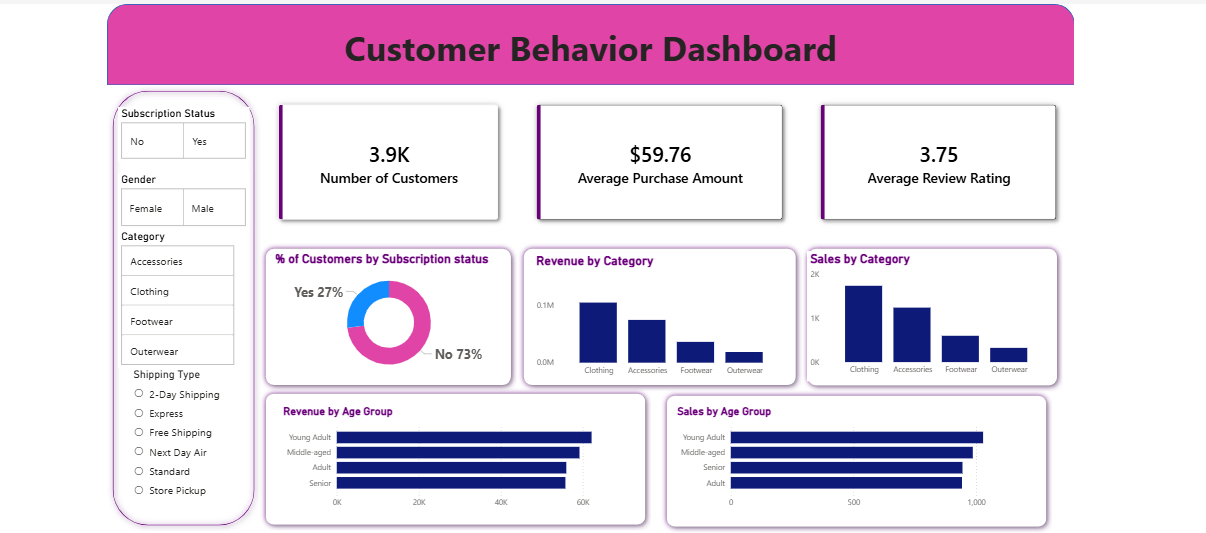

Layout of this report page (visuals, bound fields, positions):
{"tool":"powerbi","page":{"name":"Page 1","canvas":[1500,820],"ordinal":0},"visuals":[{"type":"cardVisual","fields":{"Data":["public customer.Number of Customers"]},"box":[236.7,127.8,398,236.7],"z":0},{"type":"cardVisual","fields":{"Data":["public customer.Average Purchase Amount"]},"box":[636.9,127.8,439.9,236.7],"z":1000},{"type":"cardVisual","fields":{"Data":["public customer.Average Review Rating"]},"box":[1076.8,127.8,423.2,236.7],"z":2000},{"type":"shape","box":[0,0,1500,125.7],"z":3000},{"type":"textbox","box":[0,25.1,1500,100.6],"z":4000},{"type":"shape","box":[237.5,370.8,397.9,229.2],"z":5000},{"type":"donutChart","title":"% of Customers by Subscription status","fields":{"Category":["public customer.subscription_status"],"Y":["CountNonNull(public customer.customer_id)"]},"box":[256.2,383.3,362.5,200],"z":6000},{"type":"shape","box":[637.5,370.8,439.6,229.2],"z":7000},{"type":"shape","box":[1077.9,371.1,404.5,229.7],"z":8000},{"type":"clusteredColumnChart","title":"Revenue by Category","fields":{"Category":["public customer.category"],"Y":["Sum(public customer.purchase_amount)"]},"box":[660.4,385.4,393.8,200],"z":9000},{"type":"clusteredColumnChart","title":"Sales by Category","fields":{"Category":["public customer.category"],"Y":["CountNonNull(public customer.customer_id)"]},"box":[1085.7,382.9,378.9,202.2],"z":10000},{"type":"shape","box":[0,125,237.5,691.7],"z":11000},{"type":"advancedSlicerVisual","title":"Subscription Status","fields":{"Values":["public customer.subscription_status"]},"box":[16.7,160.4,204.2,85.4],"z":12000},{"type":"advancedSlicerVisual","title":"Gender","fields":{"Values":["public customer.gender"]},"box":[16.7,262.5,204.2,87.5],"z":13000},{"type":"advancedSlicerVisual","title":"Category","fields":{"Values":["public customer.category"]},"box":[16.7,350,185.4,214.6],"z":14000},{"type":"listSlicer","title":"Shipping Type","fields":{"Values":["public customer.shipping_type"]},"box":[35.4,564.6,166.7,225],"z":15000},{"type":"shape","box":[237.5,595.8,606.2,220.8],"z":16000},{"type":"clusteredBarChart","title":"Revenue by Age Group","fields":{"Category":["public customer.age_group"],"Y":["Sum(public customer.purchase_amount)"]},"box":[268.8,620.8,547.9,168.8],"z":17000},{"type":"shape","box":[858.3,597.9,606.2,220.8],"z":18000},{"type":"clusteredBarChart","title":"Sales by Age Group","fields":{"Category":["public customer.age_group"],"Y":["CountNonNull(public customer.customer_id)"]},"box":[879.2,620.8,564.6,168.8],"z":19000}]}

Visuals, with their boxes on the page's 1500x820 design canvas (x1, y1, x2, y2). These are canvas units, not pixel positions in the 1206x533 screenshot, which may show the page scaled, cropped or inside an application window:
cardVisual - public customer.Number of Customers: rect(237, 128, 635, 364)
cardVisual - public customer.Average Purchase Amount: rect(637, 128, 1077, 364)
cardVisual - public customer.Average Review Rating: rect(1077, 128, 1500, 364)
shape: rect(0, 0, 1500, 126)
textbox: rect(0, 25, 1500, 126)
shape: rect(238, 371, 635, 600)
"% of Customers by Subscription status" donutChart: rect(256, 383, 619, 583)
shape: rect(638, 371, 1077, 600)
shape: rect(1078, 371, 1482, 601)
"Revenue by Category" clusteredColumnChart: rect(660, 385, 1054, 585)
"Sales by Category" clusteredColumnChart: rect(1086, 383, 1465, 585)
shape: rect(0, 125, 238, 817)
"Subscription Status" advancedSlicerVisual: rect(17, 160, 221, 246)
"Gender" advancedSlicerVisual: rect(17, 262, 221, 350)
"Category" advancedSlicerVisual: rect(17, 350, 202, 565)
"Shipping Type" listSlicer: rect(35, 565, 202, 790)
shape: rect(238, 596, 844, 817)
"Revenue by Age Group" clusteredBarChart: rect(269, 621, 817, 790)
shape: rect(858, 598, 1464, 819)
"Sales by Age Group" clusteredBarChart: rect(879, 621, 1444, 790)
